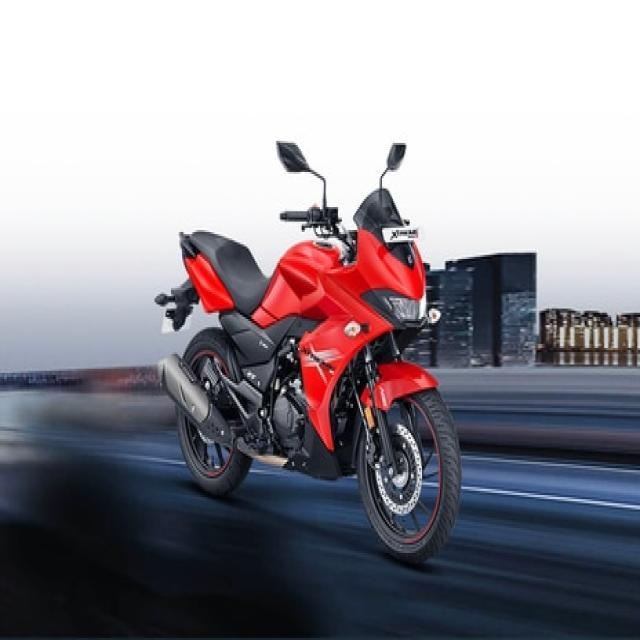MOTORCYCLE: (150, 190, 462, 570)
